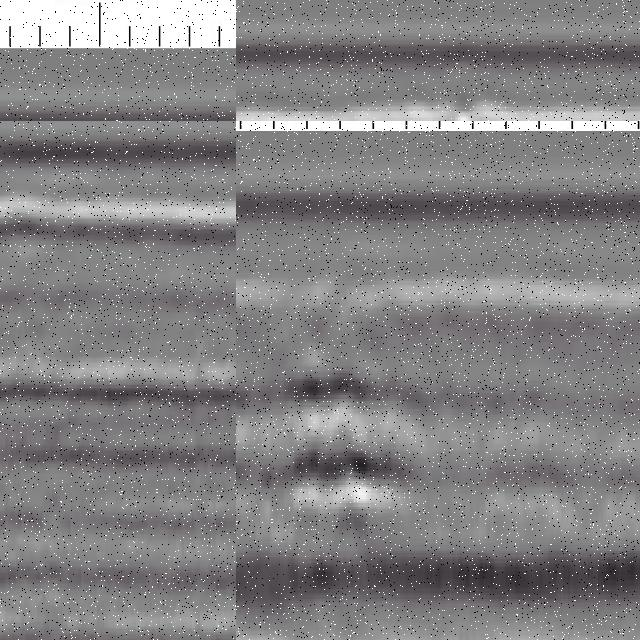crack: (449, 58, 472, 122)
loose: (237, 366, 429, 518)
